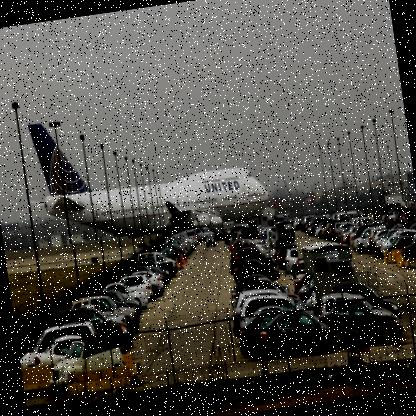Car: (4, 210, 324, 392), (292, 199, 415, 277), (330, 278, 401, 324), (320, 290, 366, 312)
